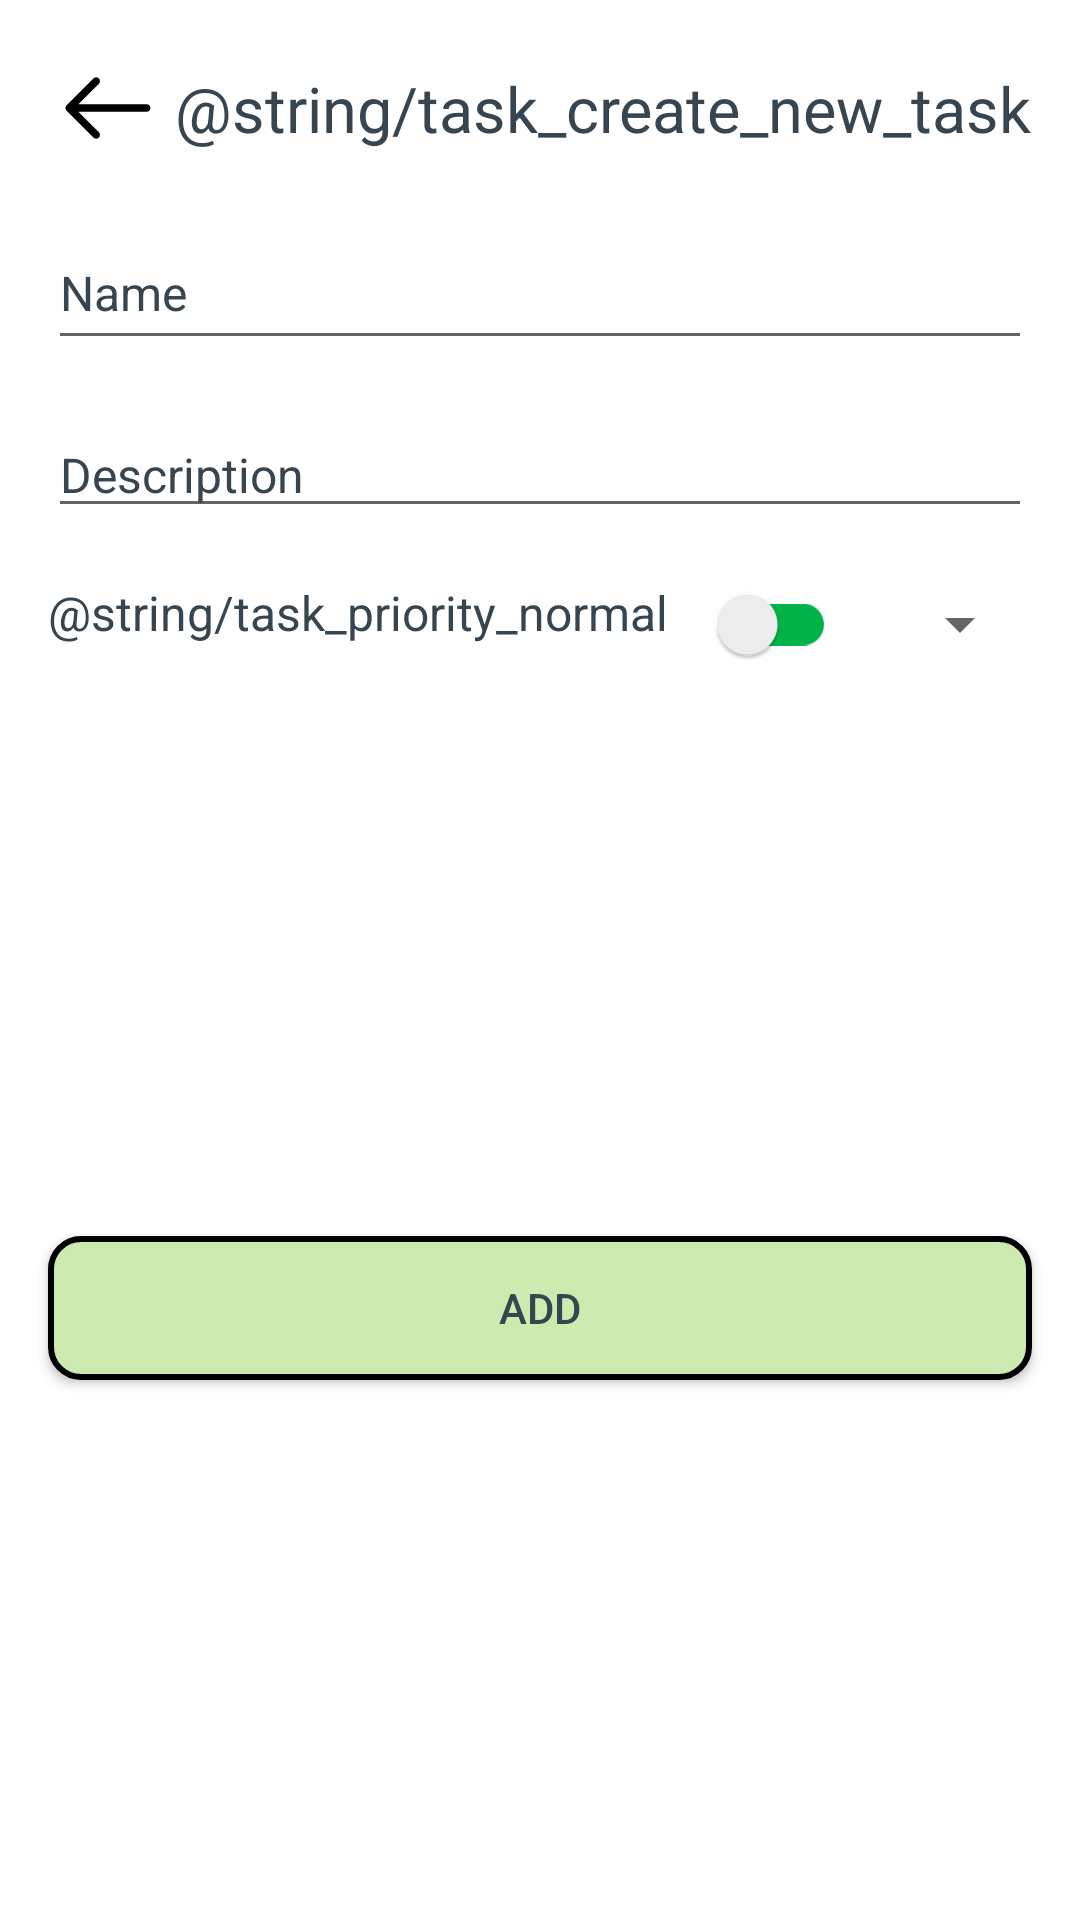

Where to tap for icons on this 1080px x 1920px app screen, as (x,y):
arrow back: (108,108)
